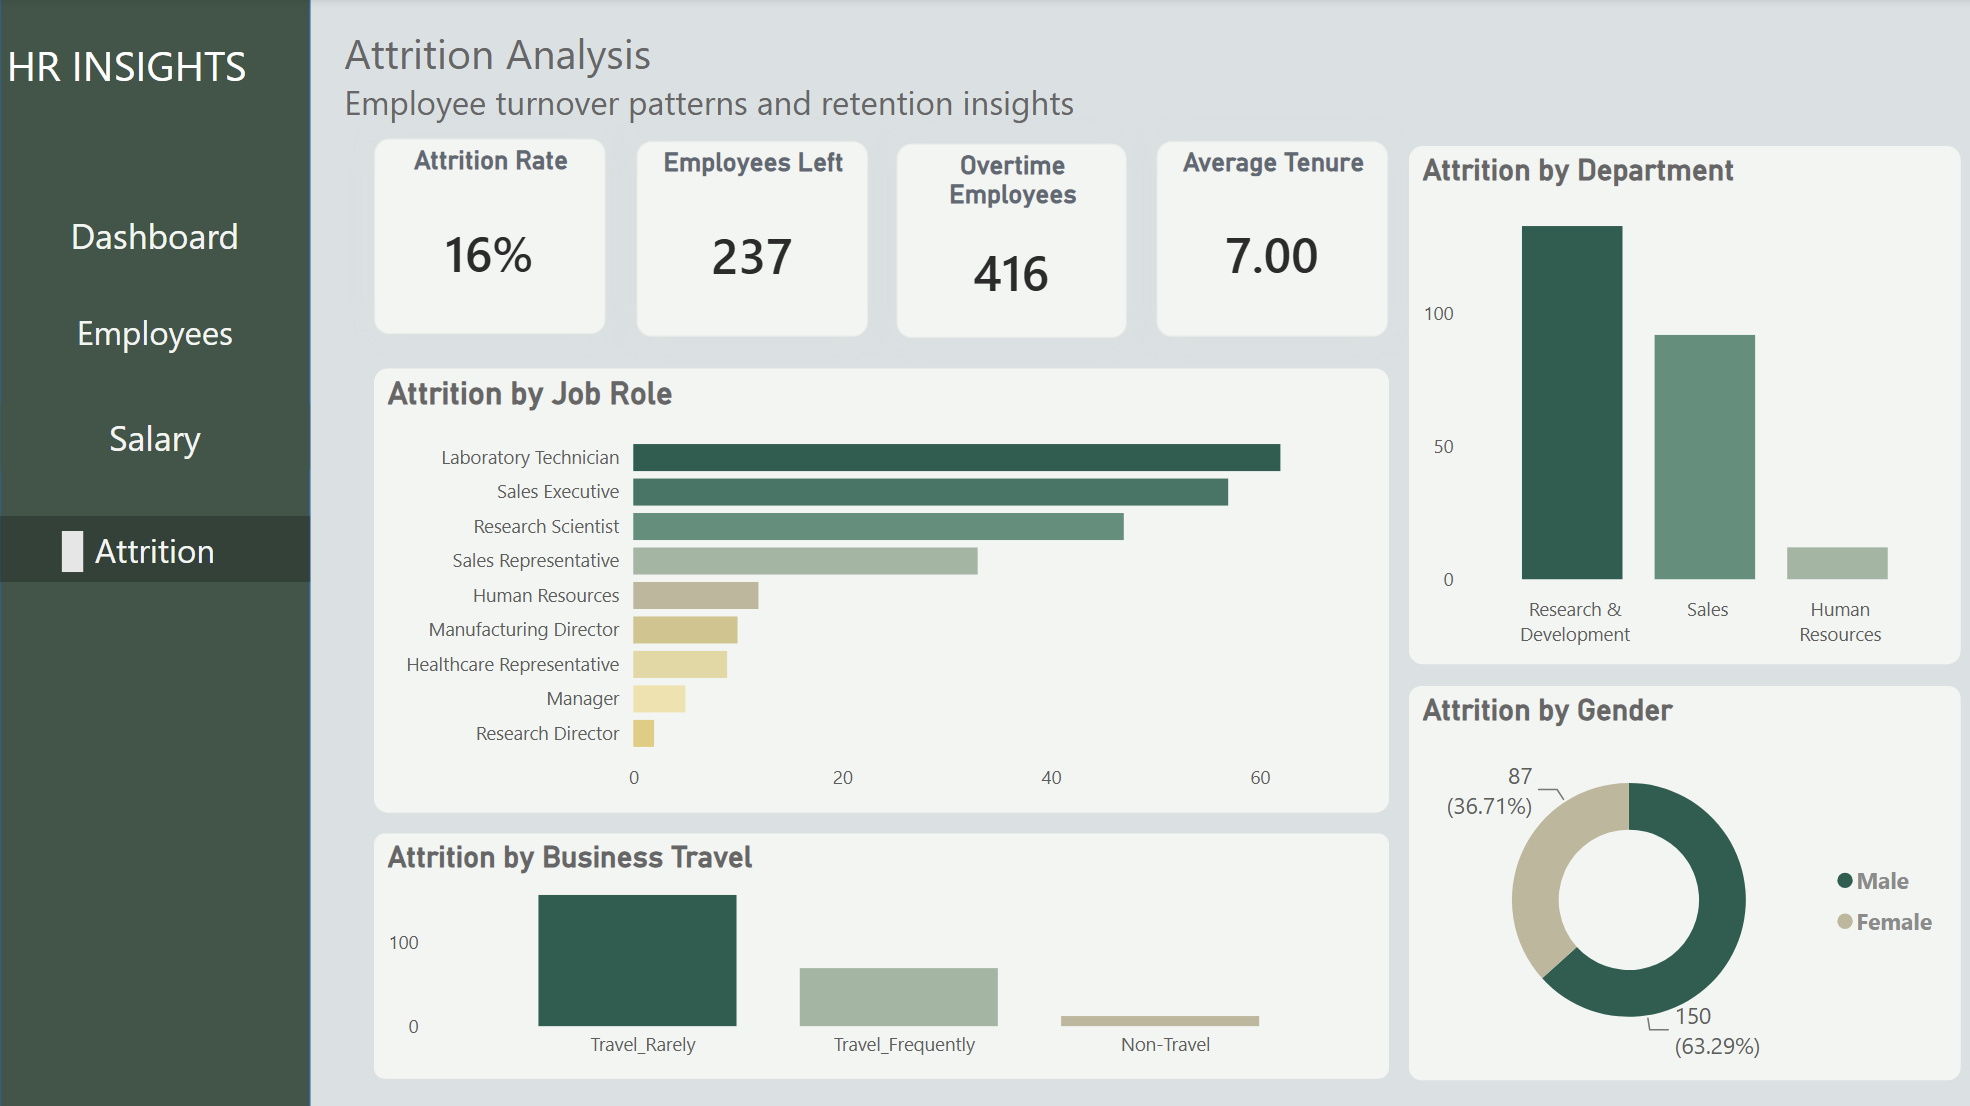

What the dashboard file says about the page in this screenshot:
{"tool":"powerbi","page":{"name":"Attrition Analysis","canvas":[1280,720],"ordinal":3},"visuals":[{"type":"shape","box":[0,0,201.8,719.6],"z":0},{"type":"actionButton","box":[0,132.1,201.8,42.9],"z":1000},{"type":"actionButton","box":[0,196.4,201.8,42.9],"z":2000},{"type":"actionButton","box":[0,337.5,201.8,42.9],"z":3000},{"type":"shape","box":[41.1,346.4,14.3,26.8],"z":4000},{"type":"textbox","box":[0,21.4,201.8,82.1],"z":5000},{"type":"cardVisual","title":"Attrition Rate","fields":{"Data":["WA_Fn-UseC_-HR-Employee-Attrition.Attrition Rate"]},"box":[242.9,92.9,150,126.8],"z":6000},{"type":"cardVisual","title":"Average Tenure ","fields":{"Data":["Table.Average Tenure"]},"box":[750,94.6,150,126.8],"z":7000},{"type":"cardVisual","title":"Employees Left","fields":{"Data":["Sum(WA_Fn-UseC_-HR-Employee-Attrition.EmployeeCount)"]},"box":[412.5,94.6,150,126.8],"z":8000},{"type":"textbox","box":[217.9,12.5,591.1,91.1],"z":9000},{"type":"cardVisual","title":"Overtime Employees ","fields":{"Data":["Sum(WA_Fn-UseC_-HR-Employee-Attrition.EmployeeCount)"]},"box":[580.8,95.6,149.3,125.9],"z":10000},{"type":"clusteredBarChart","title":"Attrition by Job Role","fields":{"Category":["WA_Fn-UseC_-HR-Employee-Attrition.JobRole"],"Y":["Sum(WA_Fn-UseC_-HR-Employee-Attrition.EmployeeCount)"]},"box":[242.9,241.1,657.1,287.5],"z":11000},{"type":"clusteredColumnChart","title":"Attrition by Department","fields":{"Y":["Sum(WA_Fn-UseC_-HR-Employee-Attrition.EmployeeCount)"],"Category":["WA_Fn-UseC_-HR-Employee-Attrition.Department"]},"box":[912.5,96.4,357.1,335.7],"z":12000},{"type":"donutChart","title":"Attrition by Gender","fields":{"Category":["WA_Fn-UseC_-HR-Employee-Attrition.Gender"],"Y":["Sum(WA_Fn-UseC_-HR-Employee-Attrition.EmployeeCount)"]},"box":[912.5,446.4,357.1,255.4],"z":13000},{"type":"clusteredColumnChart","title":"Attrition by Business Travel","fields":{"Category":["WA_Fn-UseC_-HR-Employee-Attrition.BusinessTravel"],"Y":["Sum(WA_Fn-UseC_-HR-Employee-Attrition.EmployeeCount)"]},"box":[242.9,542.9,657.1,158.9],"z":14000},{"type":"actionButton","box":[0,264.3,201.8,42.9],"z":15000}]}

Visuals, with their boxes on the page's 1280x720 design canvas (x1, y1, x2, y2). These are canvas units, not pixel positions in the 1970x1106 screenshot, which may show the page scaled, cropped or inside an application window:
shape: 0:0:202:720
actionButton: 0:132:202:175
actionButton: 0:196:202:239
actionButton: 0:338:202:380
shape: 41:346:55:373
textbox: 0:21:202:104
"Attrition Rate" cardVisual: 243:93:393:220
"Average Tenure " cardVisual: 750:95:900:221
"Employees Left" cardVisual: 412:95:562:221
textbox: 218:12:809:104
"Overtime Employees " cardVisual: 581:96:730:222
"Attrition by Job Role" clusteredBarChart: 243:241:900:529
"Attrition by Department" clusteredColumnChart: 912:96:1270:432
"Attrition by Gender" donutChart: 912:446:1270:702
"Attrition by Business Travel" clusteredColumnChart: 243:543:900:702
actionButton: 0:264:202:307
